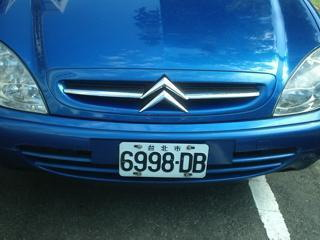plate: (116, 138, 209, 181)
